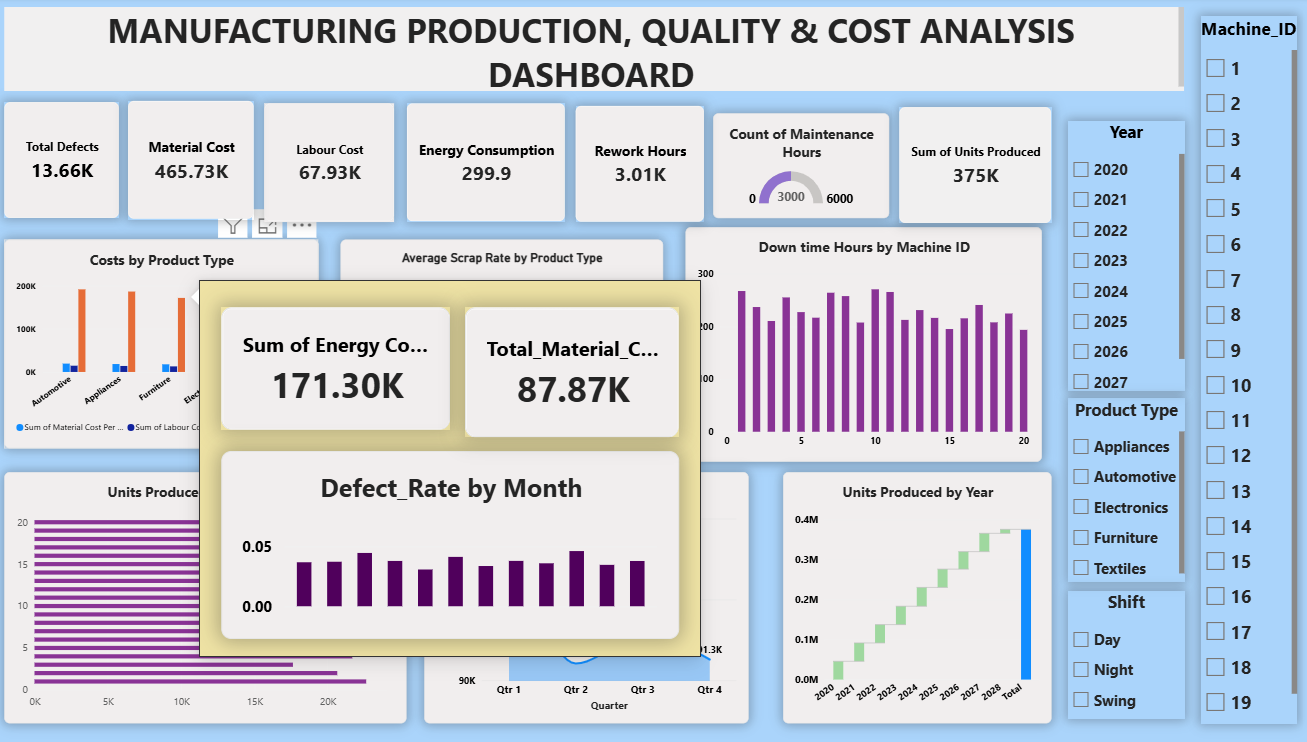

Layout of this report page (visuals, bound fields, positions):
{"tool":"powerbi","page":{"name":"Page 1","canvas":[1920,1080],"ordinal":0},"visuals":[{"type":"clusteredColumnChart","title":"Costs by Product Type","fields":{"Category":["Manufacturing Dataset.Product Type"],"Y":["Sum(Manufacturing Dataset.Material Cost Per Unit)","Sum(Manufacturing Dataset.Labour Cost Per Hour)","Sum(Manufacturing Dataset.Energy Consumption kWh)"]},"box":[22.6,308.7,454.9,302.6],"z":0},{"type":"columnChart","title":"Down time Hours by Machine ID","fields":{"Category":["Manufacturing Dataset.Machine ID"],"Y":["Sum(Manufacturing Dataset.Down time Hours)"]},"box":[1002.4,290.2,537.2,349.9],"z":1000},{"type":"lineChart","fields":{"Category":["Manufacturing Dataset.Date.Variation.Date Hierarchy.Quarter"],"Y":["Manufacturing Dataset.Total_Production"]},"box":[631.9,687.5,469.3,364.3],"z":2000},{"type":"slicer","title":"Shift","fields":{"Values":["Manufacturing Dataset.Shift"]},"box":[1564.3,860.4,168.8,185.2],"z":3000},{"type":"slicer","title":"Product Type","fields":{"Values":["Manufacturing Dataset.Product Type"]},"box":[1564.3,580.4,168.8,265.5],"z":4000},{"type":"cardVisual","fields":{"Data":["Sum(Manufacturing Dataset.Defects)"]},"box":[22.6,51.5,162.6,183.2],"z":5000},{"type":"cardVisual","fields":{"Data":["Sum(Manufacturing Dataset.Down time Hours)"]},"box":[650.4,55.6,185.2,183.2],"z":6000},{"type":"cardVisual","fields":{"Data":["Sum(Manufacturing Dataset.Maintenance Hours)"]},"box":[407.5,53.5,224.4,183.2],"z":7000},{"type":"cardVisual","fields":{"Data":["Sum(Manufacturing Dataset.Labour Cost Per Hour)"]},"box":[1086.8,55.6,214.1,183.2],"z":8000},{"type":"slicer","title":"Machine_ID","fields":{"Values":["Manufacturing Dataset.Machine ID"]},"box":[1755.8,26.8,140,1025],"z":9000},{"type":"clusteredBarChart","title":"Units Produced by Machine ID","fields":{"Category":["Manufacturing Dataset.Machine ID"],"Y":["Sum(Manufacturing Dataset.Units Produced)"]},"box":[22.6,687.5,582.5,364.3],"z":10000},{"type":"waterfallChart","title":"Units Produced by Year","fields":{"Category":["Manufacturing Dataset.Date.Variation.Date Hierarchy.Year"],"Y":["Sum(Manufacturing Dataset.Units Produced)"]},"box":[1150.6,687.5,389,364.3],"z":11000},{"type":"slicer","title":"Year","fields":{"Values":["Manufacturing Dataset.Date.Variation.Date Hierarchy.Year"]},"box":[1564.3,179.1,168.8,391.1],"z":12000},{"type":"cardVisual","fields":{"Data":["Sum(Manufacturing Dataset.Energy Consumption kWh)"]},"box":[856.3,53.5,203.8,183.2],"z":13000},{"type":"donutChart","title":"Average Scrap Rate by Product Type","fields":{"Category":["Manufacturing Dataset.Product Type"],"Y":["Avg(Manufacturing Dataset.Scrap Rate)"]},"box":[508.4,308.7,467.2,302.6],"z":14000},{"type":"gauge","fields":{"Y":["CountNonNull(Manufacturing Dataset.Maintenance Hours)"]},"box":[1360.6,12.3,372.6,140],"z":15000},{"type":"cardVisual","fields":{"Data":["Manufacturing Dataset.Total_Material_Cost"]},"box":[203.8,53.5,181.1,183.2],"z":16000},{"type":"cardVisual","fields":{"Data":["Sum(Manufacturing Dataset.Rework Hours)"]},"box":[1317.3,179.1,230.5,102.9],"z":17000}]}

Visuals, with their boxes in screenshot pixels (x1, y1, x2, y2), scaled from the page's 1920x1080 canvas onto the 1307x742 screenshot:
"Costs by Product Type" clusteredColumnChart: detection(15, 212, 325, 420)
"Down time Hours by Machine ID" columnChart: detection(682, 199, 1048, 440)
lineChart - Manufacturing Dataset.Date.Variation.Date Hierarchy.Quarter x Manufacturing Dataset.Total_Production: detection(430, 472, 750, 723)
"Shift" slicer: detection(1065, 591, 1180, 718)
"Product Type" slicer: detection(1065, 399, 1180, 581)
cardVisual - Sum(Manufacturing Dataset.Defects): detection(15, 35, 126, 161)
cardVisual - Sum(Manufacturing Dataset.Down time Hours): detection(443, 38, 569, 164)
cardVisual - Sum(Manufacturing Dataset.Maintenance Hours): detection(277, 37, 430, 163)
cardVisual - Sum(Manufacturing Dataset.Labour Cost Per Hour): detection(740, 38, 886, 164)
"Machine_ID" slicer: detection(1195, 18, 1291, 723)
"Units Produced by Machine ID" clusteredBarChart: detection(15, 472, 412, 723)
"Units Produced by Year" waterfallChart: detection(783, 472, 1048, 723)
"Year" slicer: detection(1065, 123, 1180, 392)
cardVisual - Sum(Manufacturing Dataset.Energy Consumption kWh): detection(583, 37, 722, 163)
"Average Scrap Rate by Product Type" donutChart: detection(346, 212, 664, 420)
gauge - CountNonNull(Manufacturing Dataset.Maintenance Hours): detection(926, 8, 1180, 105)
cardVisual - Manufacturing Dataset.Total_Material_Cost: detection(139, 37, 262, 163)
cardVisual - Sum(Manufacturing Dataset.Rework Hours): detection(897, 123, 1054, 194)
